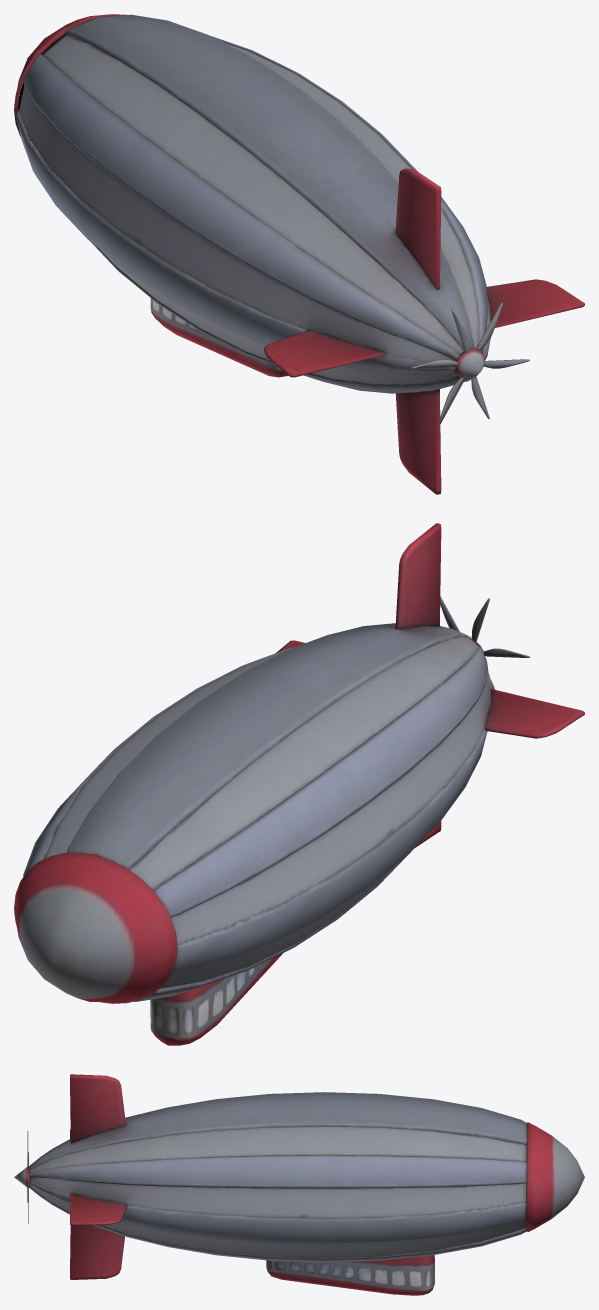
Rendered from Zeppelin.glb.
3 views of the same model, one above another, from view 1: azimuth 30°, elevation 25°; view 2: azimuth 150°, elevation 25°; view 3: azimuth 270°, elevation 25° (orthographic). The views are drawn at different scales.
Visible parts, largest first — view 1: Sphere.001; view 2: Sphere.001; view 3: Sphere.001.
Boxes of the visible parts, x1=… form: Sphere.001: x1=14, y1=14, x2=584, y2=494; Sphere.001: x1=14, y1=523, x2=584, y2=1045; Sphere.001: x1=14, y1=1074, x2=584, y2=1295.
Bounding box in the file's own units: 2.38 × 2.51 × 6.
1 material, 1 textured.
